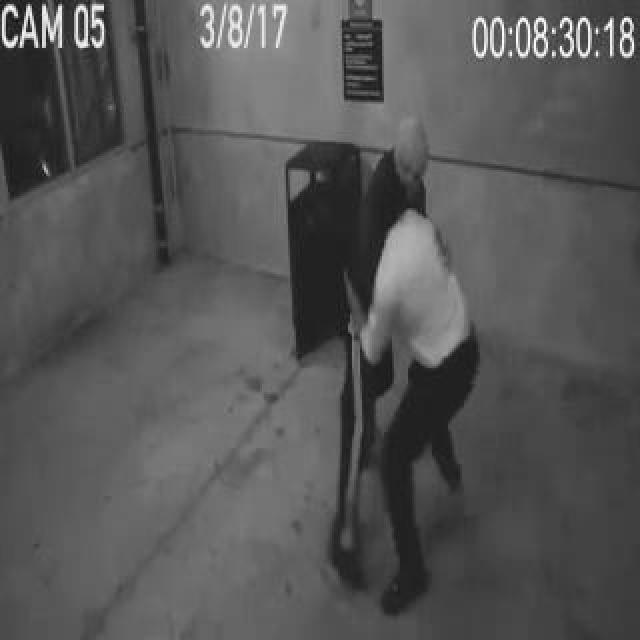fight: (317, 115, 499, 581)
